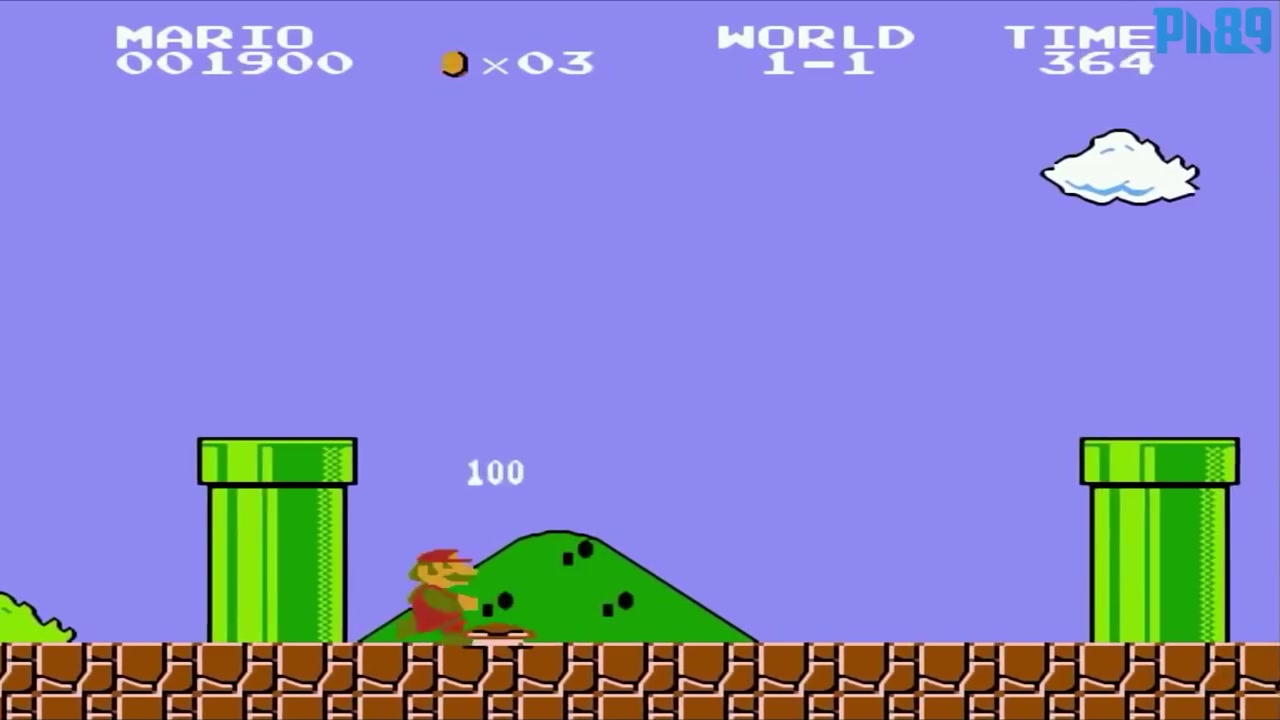mario: (400, 545, 478, 643)
